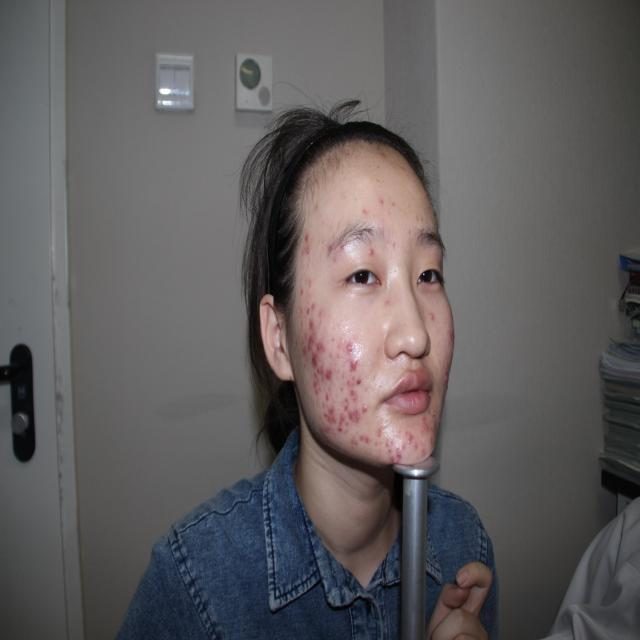Acne: (303, 334, 367, 446), (298, 224, 324, 332), (375, 416, 439, 459), (356, 196, 410, 217), (376, 144, 416, 172), (324, 237, 348, 269), (416, 212, 438, 230), (360, 243, 379, 263), (427, 304, 439, 328), (388, 236, 400, 256), (384, 290, 394, 314), (449, 325, 456, 349)
